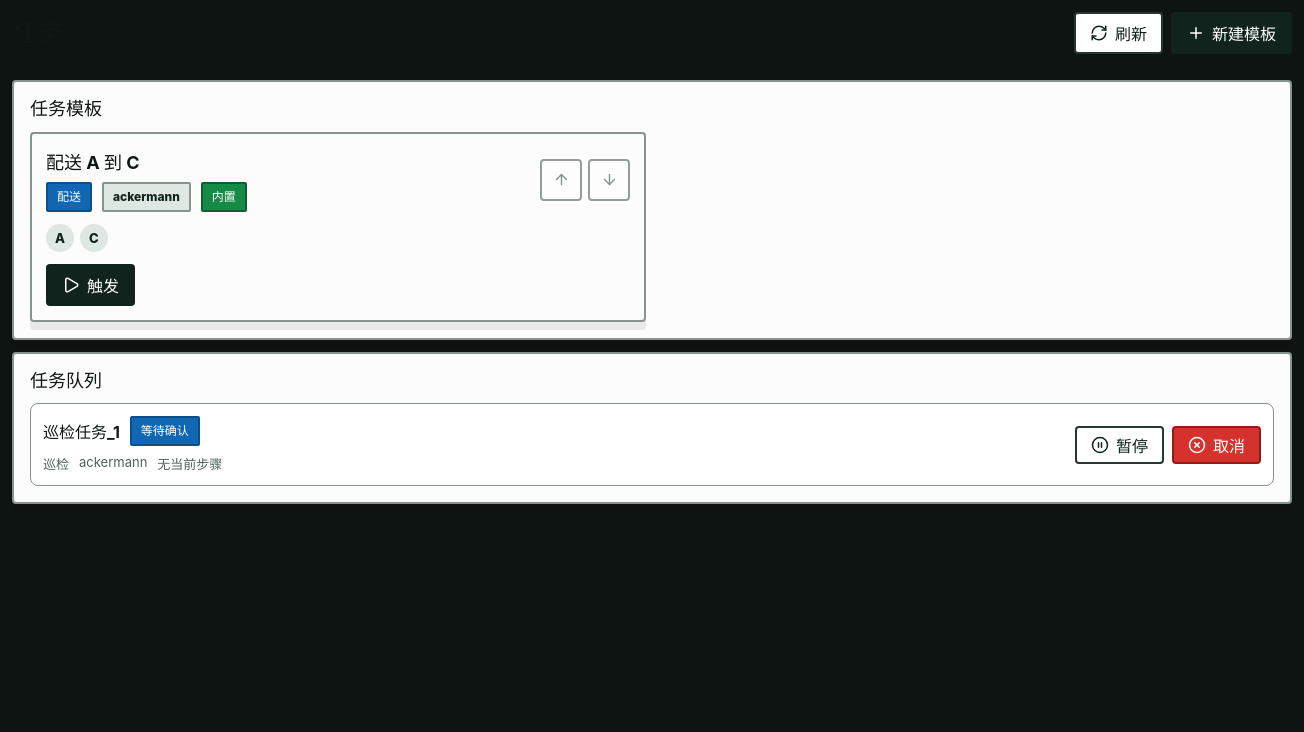
TasksView › warns about preference fallback and then shows the actual assigned robot
Click the button "触发".
click(90, 285)  # box [46,264,135,306]
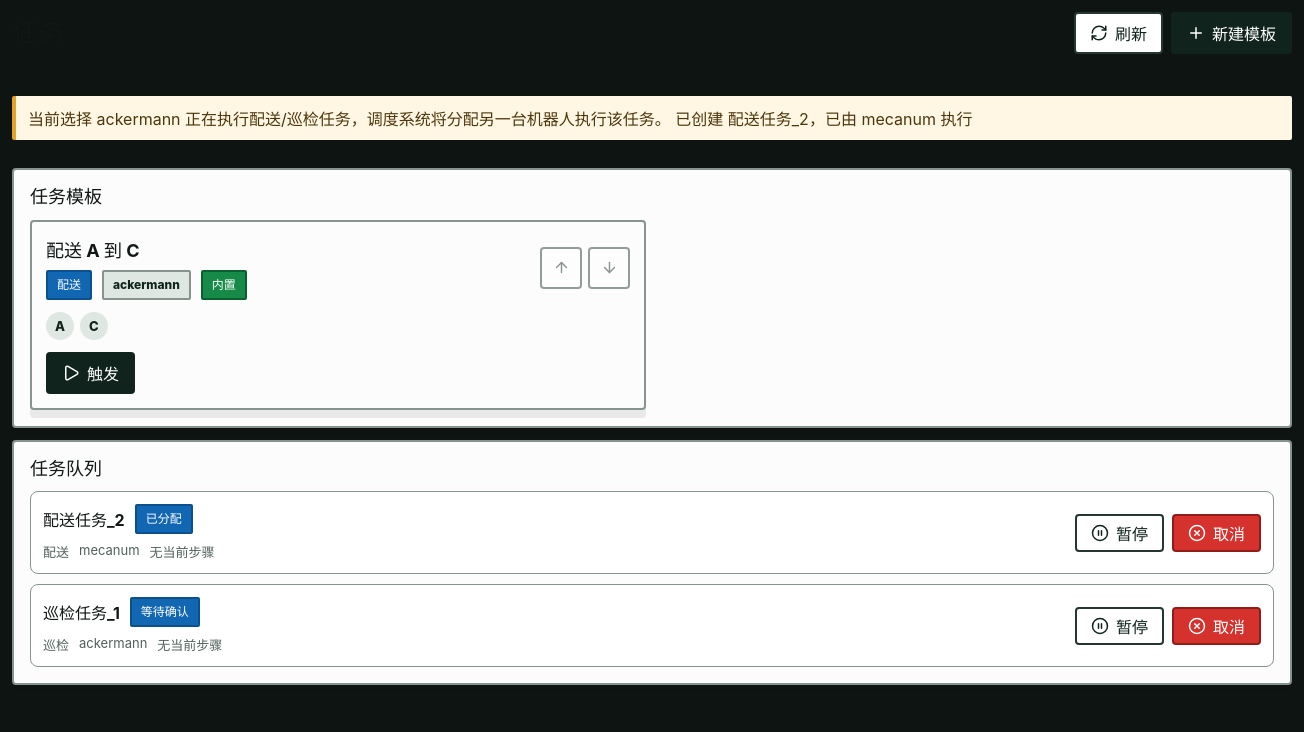
Expected: the text "当前选择 ackermann 正在执行配送/巡检任务" is shown, [28,109,972,129]
Expected: the text "配送任务_2" is shown, [28,109,972,129]
Expected: the text "已由 mecanum 执行" is shown, [28,109,972,129]
